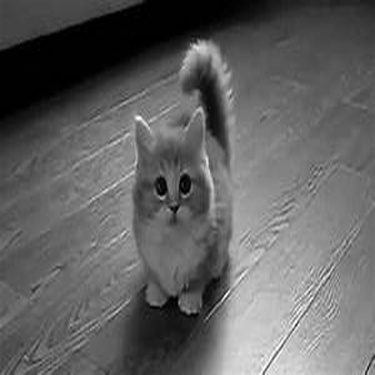cat: (125, 40, 235, 317)
